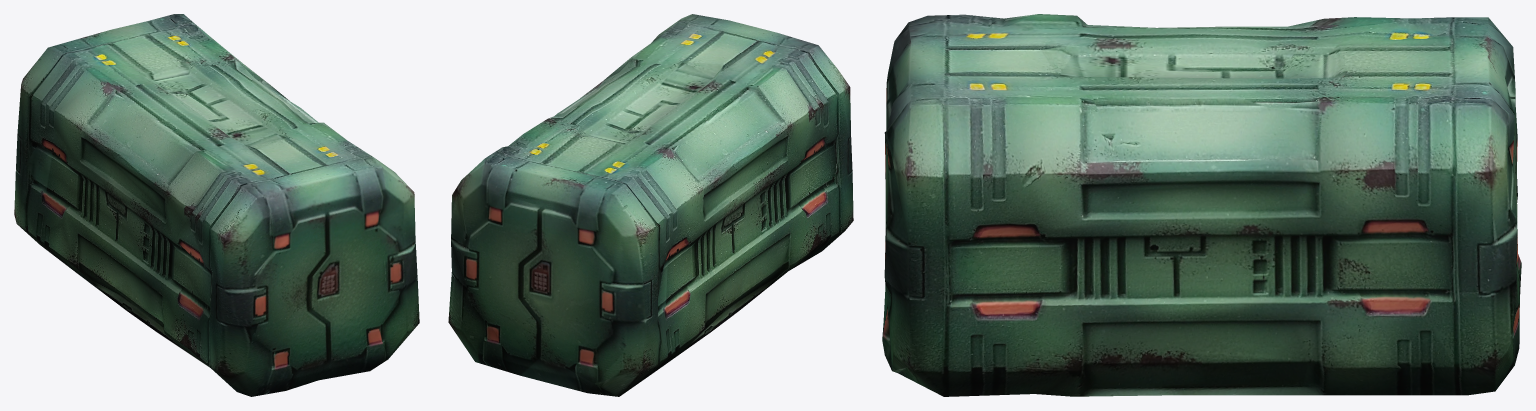
File: cargo-size-2-2.glb
The picture shows the model from 3 angles, left to right: view 1: azimuth 30°, elevation 25°; view 2: azimuth 150°, elevation 25°; view 3: azimuth 270°, elevation 25°; orthographic projection. The views are drawn at different scales.
Parts seen in each view (by area): view 1: Tech_container_green; view 2: Tech_container_green; view 3: Tech_container_green.
Boxes of the visible parts, bbox=[...] form: Tech_container_green: bbox=[14, 14, 419, 396]; Tech_container_green: bbox=[448, 14, 853, 396]; Tech_container_green: bbox=[882, 14, 1521, 396].
Bounding box in the file's own units: 2.38 × 2.26 × 4.62.
Materials: 1 (1 with a texture image).
